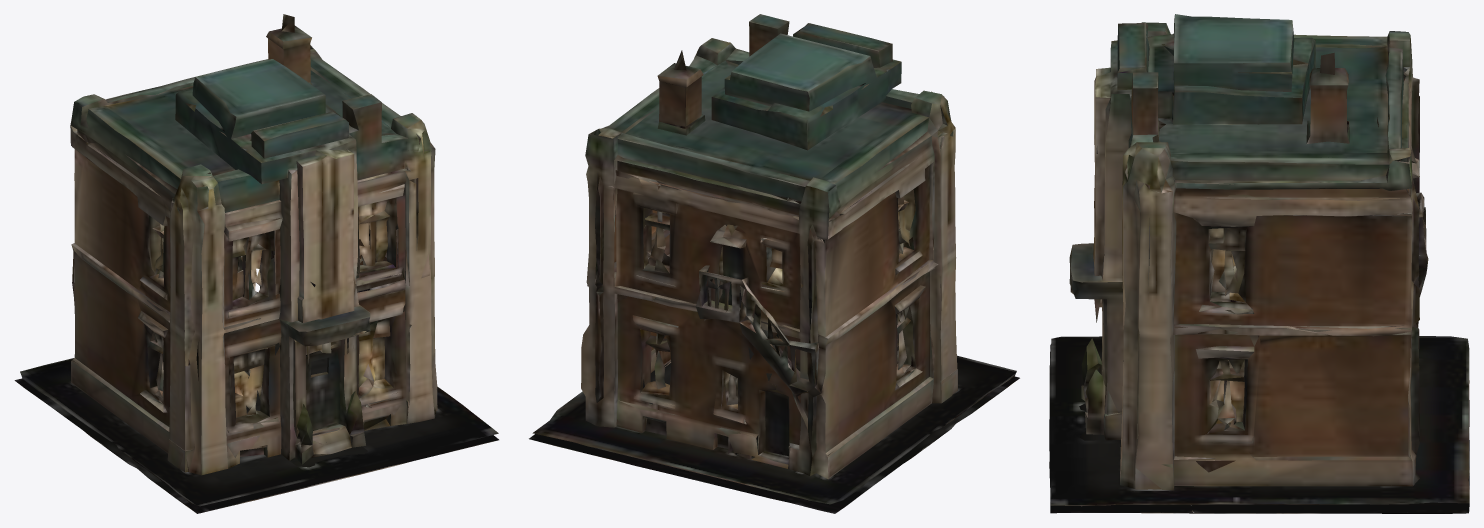
The model's file is tower_2.glb.
The picture shows the model from 3 angles, left to right: view 1: azimuth 30°, elevation 25°; view 2: azimuth 150°, elevation 25°; view 3: azimuth 270°, elevation 25°; orthographic projection. The views are drawn at different scales.
Parts seen in each view (by area): view 1: expansion__tower_2__neural_lod; view 2: expansion__tower_2__neural_lod; view 3: expansion__tower_2__neural_lod.
Boxes of the visible parts, box(x1,y1,x2,y2) form: expansion__tower_2__neural_lod: box(14, 14, 498, 513); expansion__tower_2__neural_lod: box(529, 14, 1019, 513); expansion__tower_2__neural_lod: box(1049, 14, 1469, 513).
Bounding box in the file's own units: 0.8843 × 0.9992 × 0.9284.
1 material, 1 textured.
